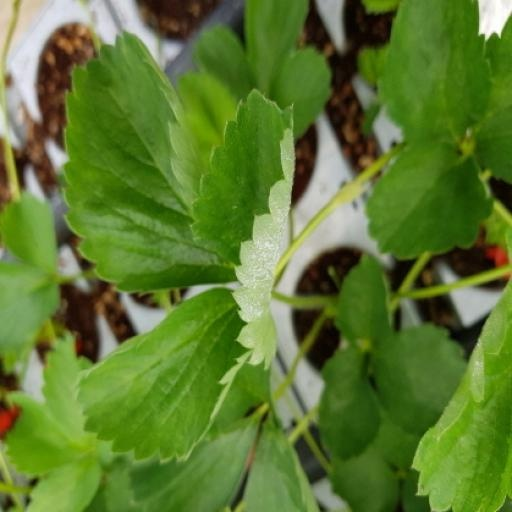Powdery Mildew Leaf: (216, 141, 323, 423)
